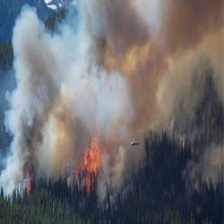fire: (75, 134, 105, 199)
smoke: (8, 1, 220, 152)
